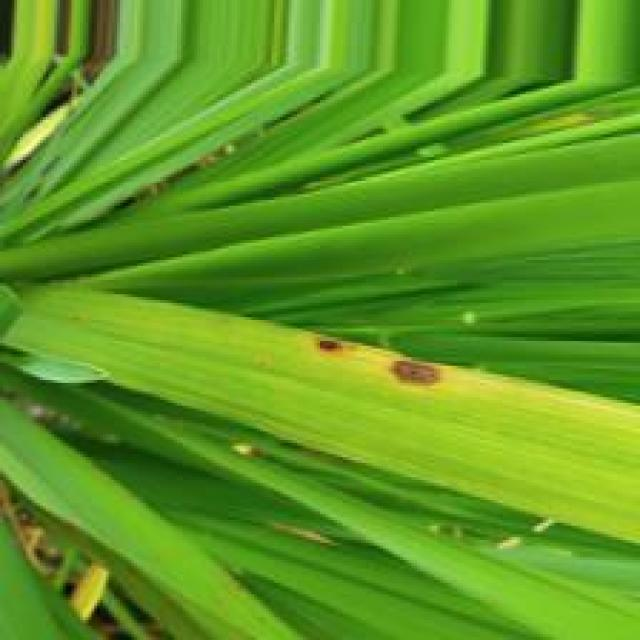Brown_Spot: (387, 354, 449, 388), (313, 335, 357, 357)
